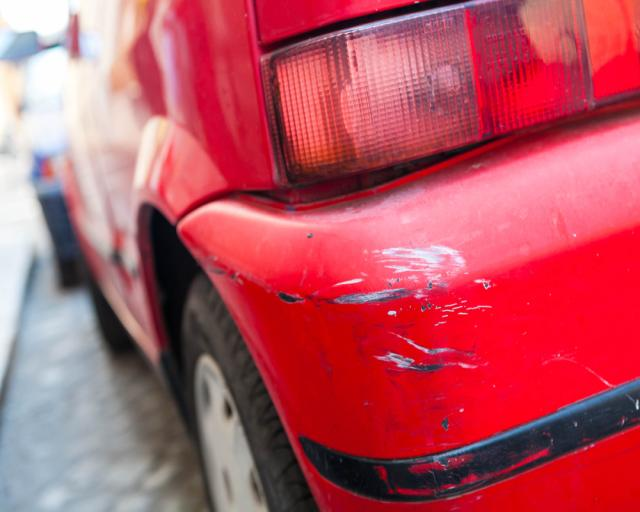scratch: (273, 241, 493, 440)
